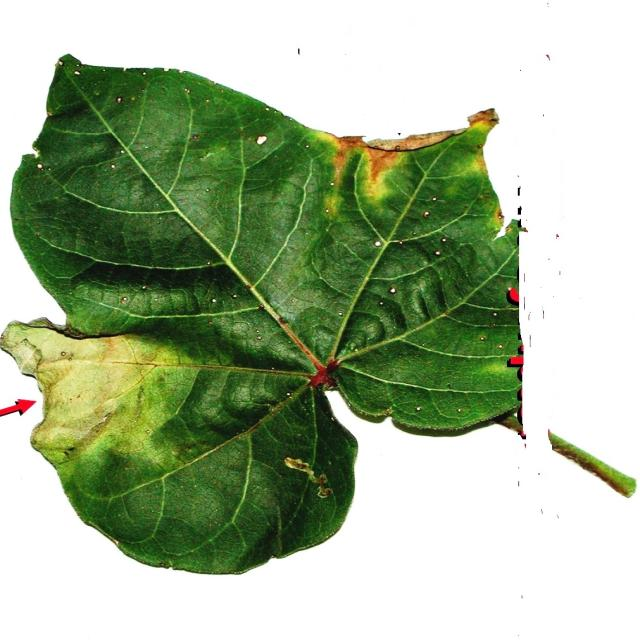Fusarium Wilt: (37, 62, 540, 565)
